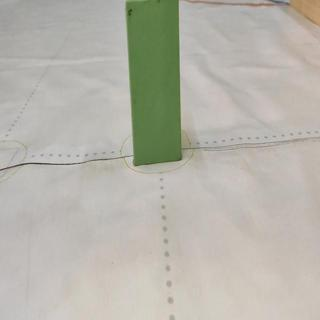greenbox: (125, 3, 184, 162)
